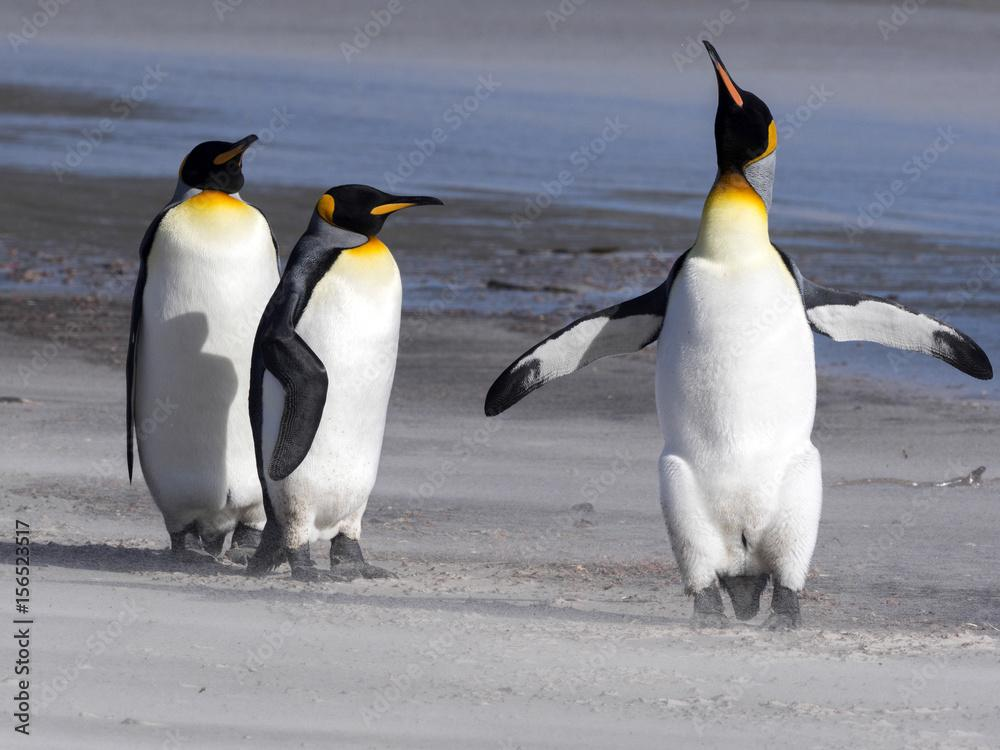king: (566, 8, 974, 660), (237, 148, 520, 648), (106, 82, 336, 594)
